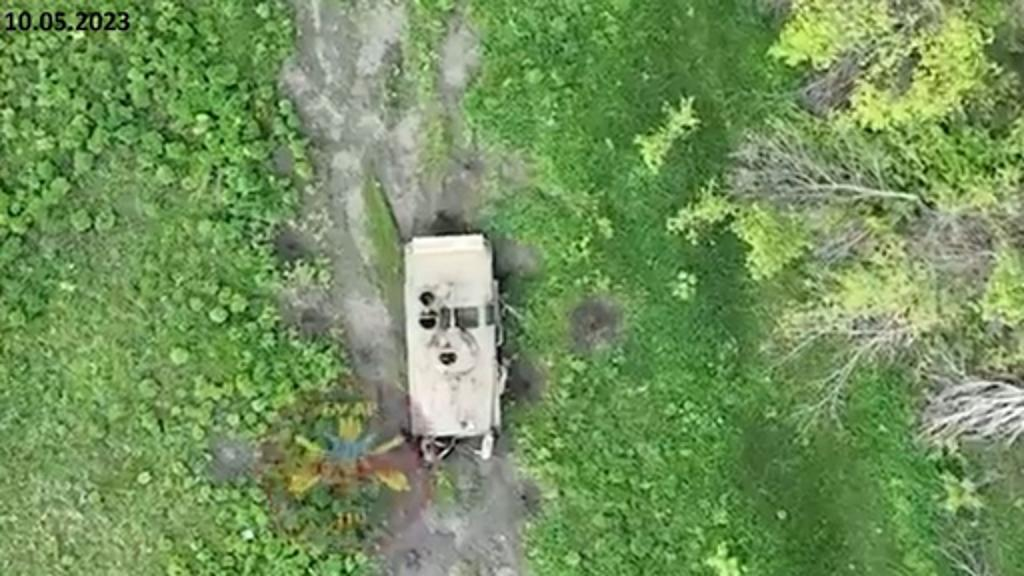APC-IFV: (394, 224, 504, 458)
